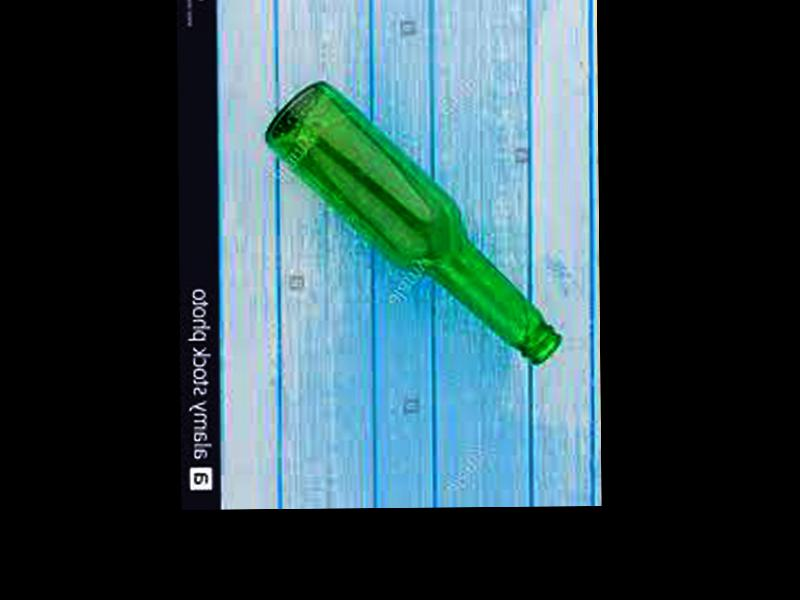Beer: (260, 76, 562, 369)
